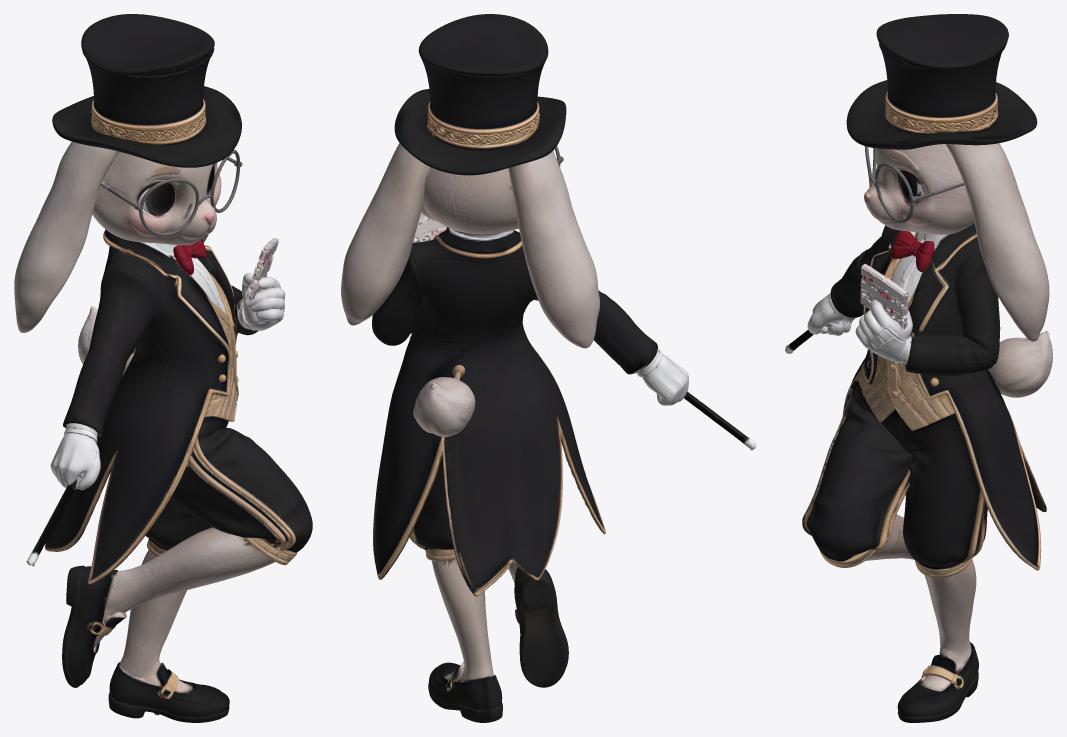
The model's file is 歌剧兔.glb.
3 renders of one model, left to right at view 1: azimuth 30°, elevation 25°; view 2: azimuth 150°, elevation 25°; view 3: azimuth 270°, elevation 25°, orthographic. The views are drawn at different scales.
Parts seen in each view (by area): view 1: tripo_node_741da4b5-b56b-4149-8ca2-ae80d1cc0d69; view 2: tripo_node_741da4b5-b56b-4149-8ca2-ae80d1cc0d69; view 3: tripo_node_741da4b5-b56b-4149-8ca2-ae80d1cc0d69.
Boxes of the visible parts, box(x1,y1,x2,y2) form: tripo_node_741da4b5-b56b-4149-8ca2-ae80d1cc0d69: box(14, 14, 312, 722); tripo_node_741da4b5-b56b-4149-8ca2-ae80d1cc0d69: box(341, 14, 756, 722); tripo_node_741da4b5-b56b-4149-8ca2-ae80d1cc0d69: box(785, 14, 1052, 722).
Size of the model in its own units: 0.468 by 0.9804 by 0.3584.
1 material, 1 textured.
